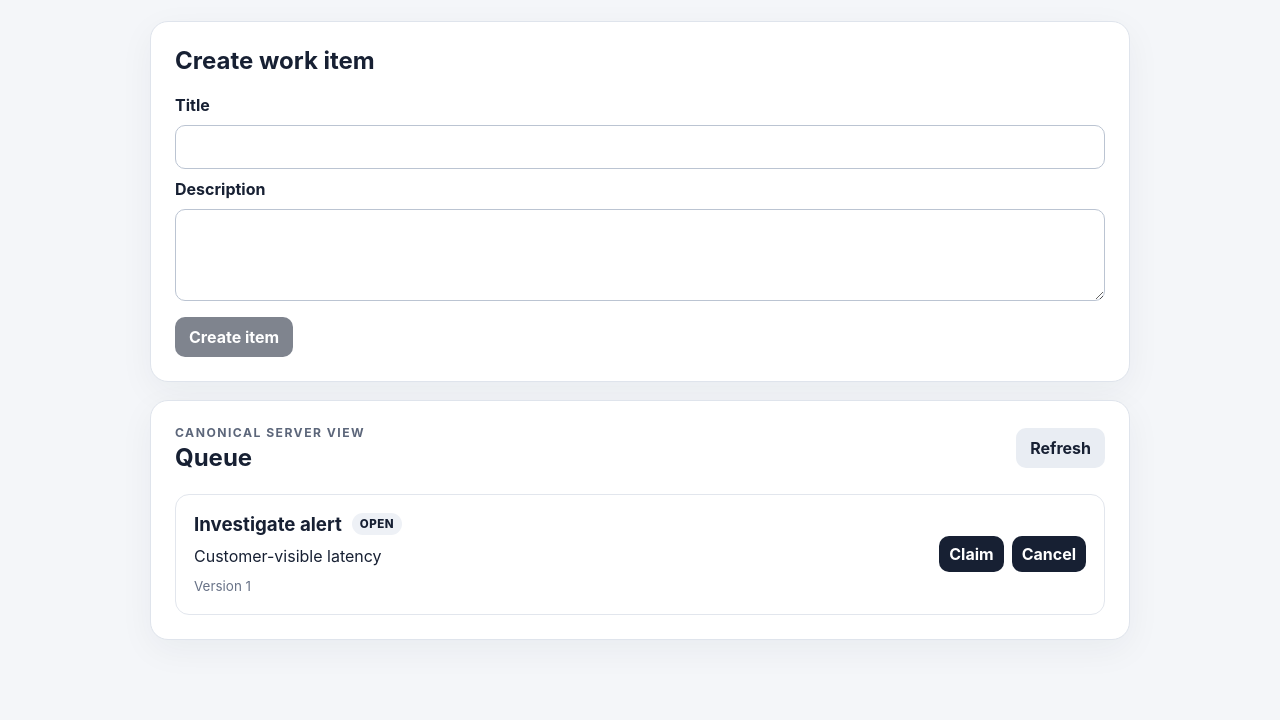
Test: 409 transition conflict re-reads canonical server state instead of showing false success
This screenshot has width=1280, height=720.
(page scrolled)
Expected: the heading "Investigate alert" is shown, [194, 512, 342, 536]
Click the button "Claim" at point(971, 554), box [939, 536, 1004, 572]
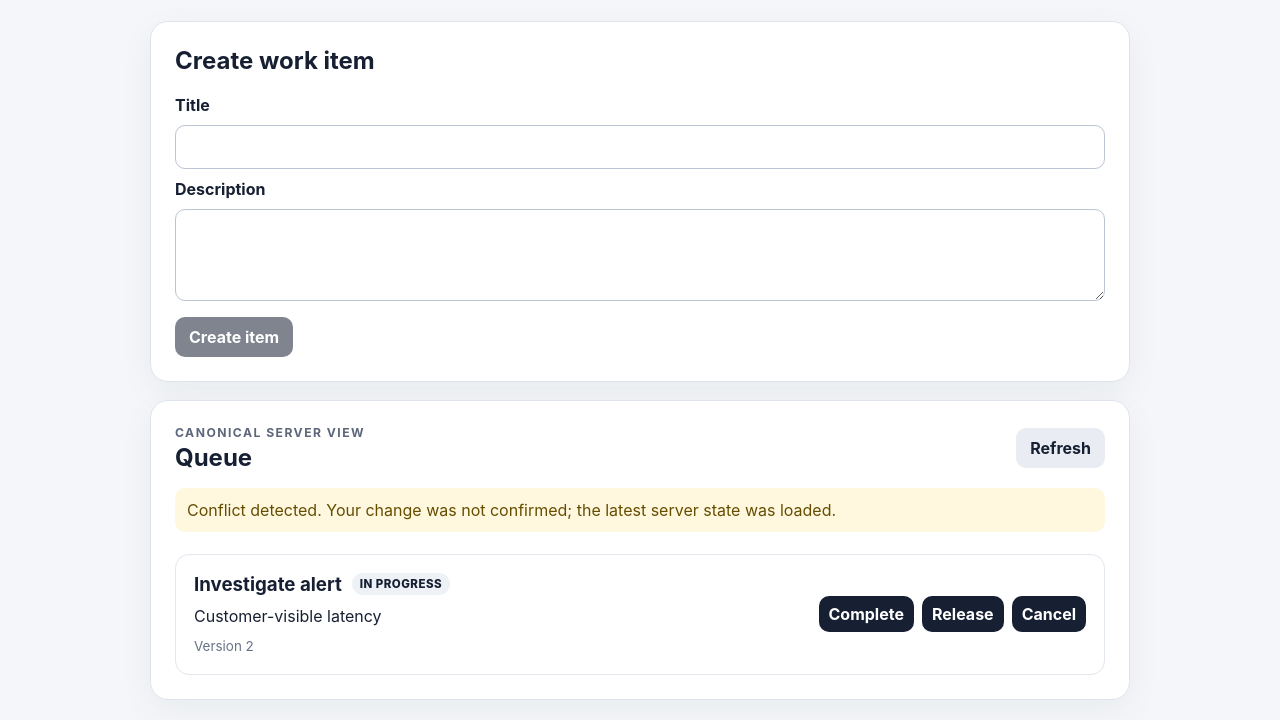
Expected: the text "IN PROGRESS" is shown, [352, 573, 450, 595]
Expected: the message shows "latest server state was loaded", [187, 500, 836, 520]
Expected: the text "Version 2" is shown, [194, 638, 254, 654]
